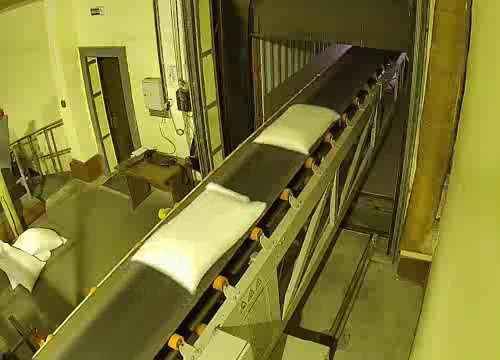bag: (130, 180, 270, 295), (251, 99, 341, 158)
